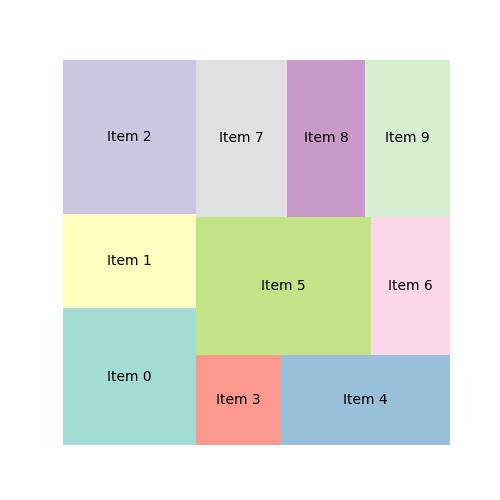rectangle: (196, 217, 374, 356), (64, 60, 196, 216), (63, 307, 196, 445), (281, 354, 451, 446), (197, 59, 288, 216), (366, 61, 451, 217), (287, 59, 366, 217), (65, 212, 196, 306), (372, 218, 451, 356), (196, 354, 281, 445)
